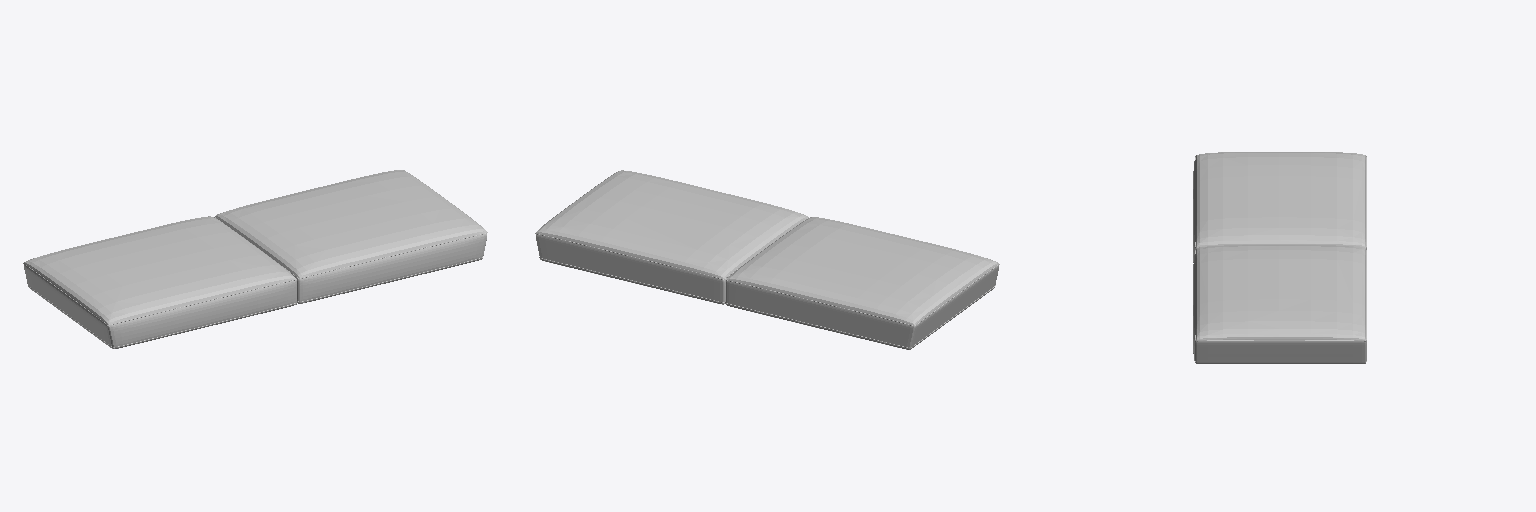
The model's file is ziri.obj.
3 views of the same model, side by side, from view 1: azimuth 30°, elevation 25°; view 2: azimuth 150°, elevation 25°; view 3: azimuth 270°, elevation 25° (orthographic).
Size of the model in its own units: 56.78 by 5.24 by 22.55.